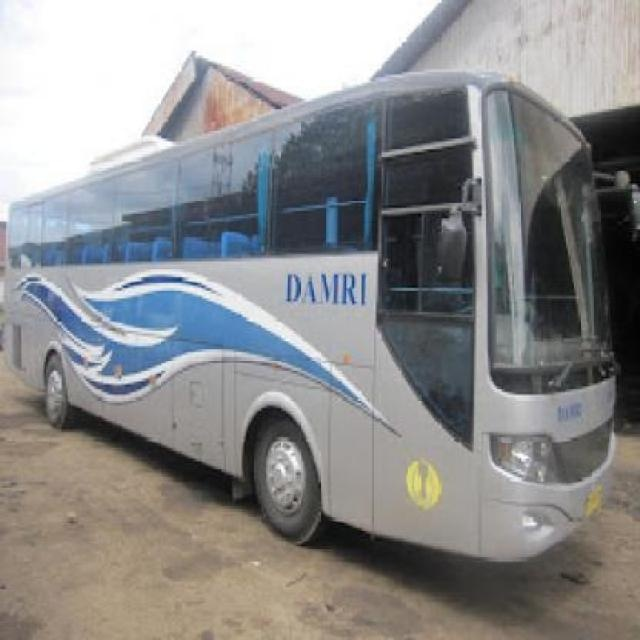Bus: (3, 55, 634, 576)
